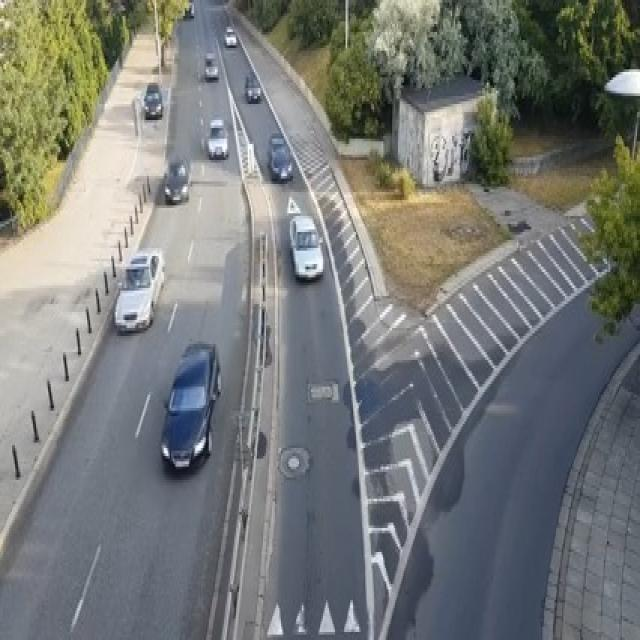car: (159, 339, 221, 469), (113, 248, 165, 333), (288, 213, 323, 280), (162, 154, 191, 202), (267, 131, 293, 181), (206, 117, 228, 160), (141, 83, 162, 117), (244, 72, 262, 101), (204, 51, 218, 80), (224, 24, 236, 45), (183, 0, 194, 19), (188, 0, 194, 16)
